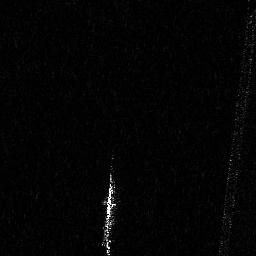ship: (102, 178, 117, 246)
